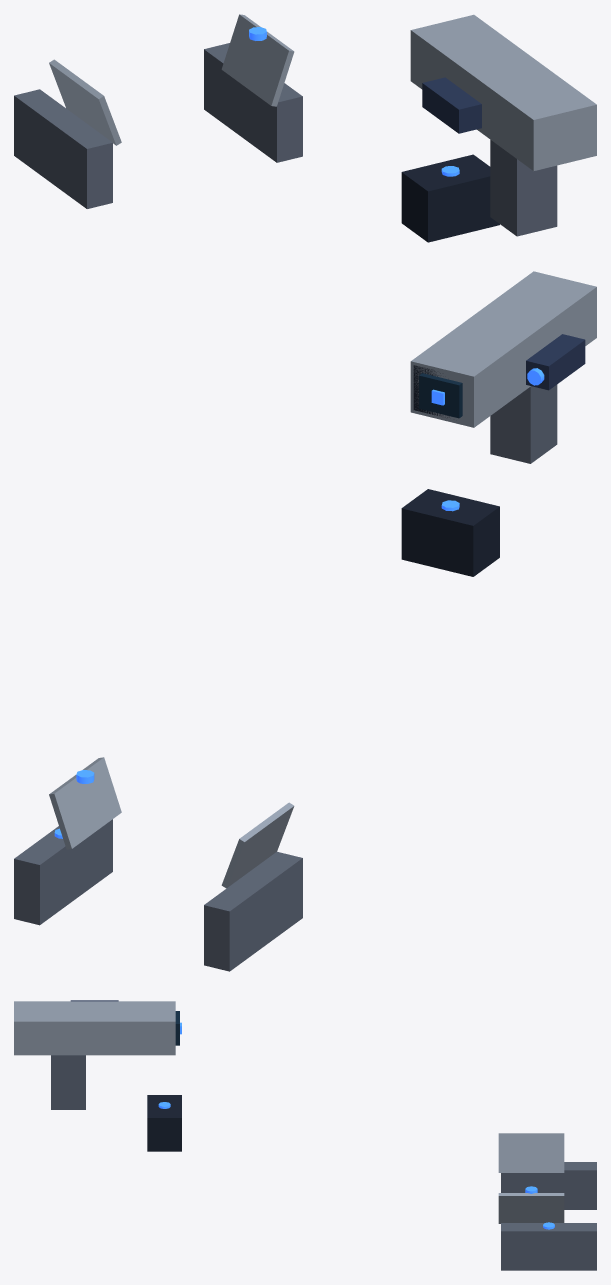
Rendered from tower_lance_range_s6.glb.
The picture shows the model from 3 angles, top to bottom: view 1: azimuth 30°, elevation 25°; view 2: azimuth 150°, elevation 25°; view 3: azimuth 270°, elevation 25°; orthographic projection. The views are drawn at different scales.
Parts seen in each view (by area): view 1: lance_optic_long, lance_shroud_ext_r, lance_optic_shade_deep, lance_shroud_ext_l, lance_optic_riser, lance_stab_fin_l, lance_stab_fin_r, lance_rangefinder; view 2: lance_optic_long, lance_shroud_ext_r, lance_optic_shade_deep, lance_shroud_ext_l, lance_optic_riser, lance_stab_fin_l, lance_stab_fin_r, lance_rangefinder, lance_optic_long_lens; view 3: lance_optic_long, lance_shroud_ext_l, lance_shroud_ext_r, lance_stab_fin_r, lance_stab_fin_l, lance_optic_shade_deep, lance_optic_riser.
Part boxes in pixels (x1,y1,x2,y2): lance_optic_long: (410,14,596,170); lance_shroud_ext_r: (14,89,112,208); lance_optic_shade_deep: (401,154,499,242); lance_shroud_ext_l: (204,43,302,162); lance_optic_riser: (490,140,557,236); lance_stab_fin_l: (221,14,294,106); lance_stab_fin_r: (49,59,121,145); lance_rangefinder: (422,77,481,133); lance_optic_long: (410,271,596,427); lance_shroud_ext_r: (204,851,302,971); lance_optic_shade_deep: (401,489,499,576); lance_shroud_ext_l: (14,819,112,925); lance_optic_riser: (490,384,557,463); lance_stab_fin_l: (49,757,121,849); lance_stab_fin_r: (221,802,294,888); lance_rangefinder: (526,334,585,390); lance_optic_long_lens: (419,373,462,418); lance_optic_long: (14,1001,175,1055); lance_shroud_ext_l: (501,1223,596,1270); lance_shroud_ext_r: (501,1162,596,1209); lance_stab_fin_r: (498,1133,564,1172); lance_stab_fin_l: (498,1193,564,1223); lance_optic_shade_deep: (147,1095,181,1151); lance_optic_riser: (51,1055,85,1109).
Bounding box in the file's own units: 0.75 × 1.14 × 2.67.
